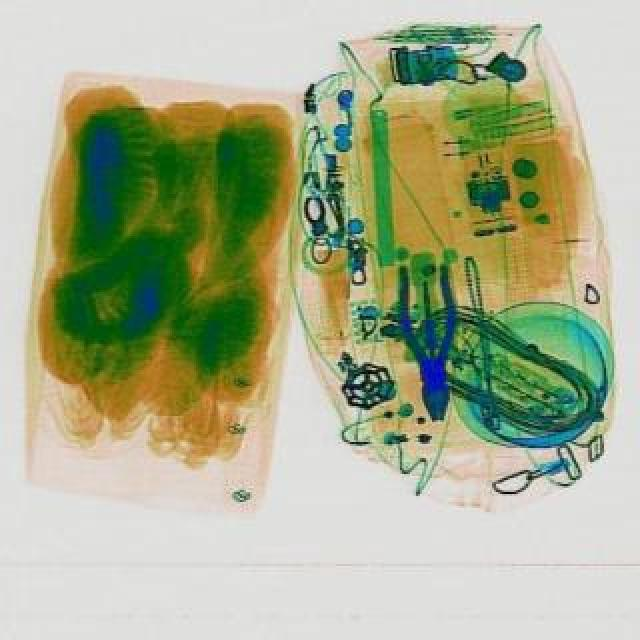wrench: (398, 266, 468, 428)
